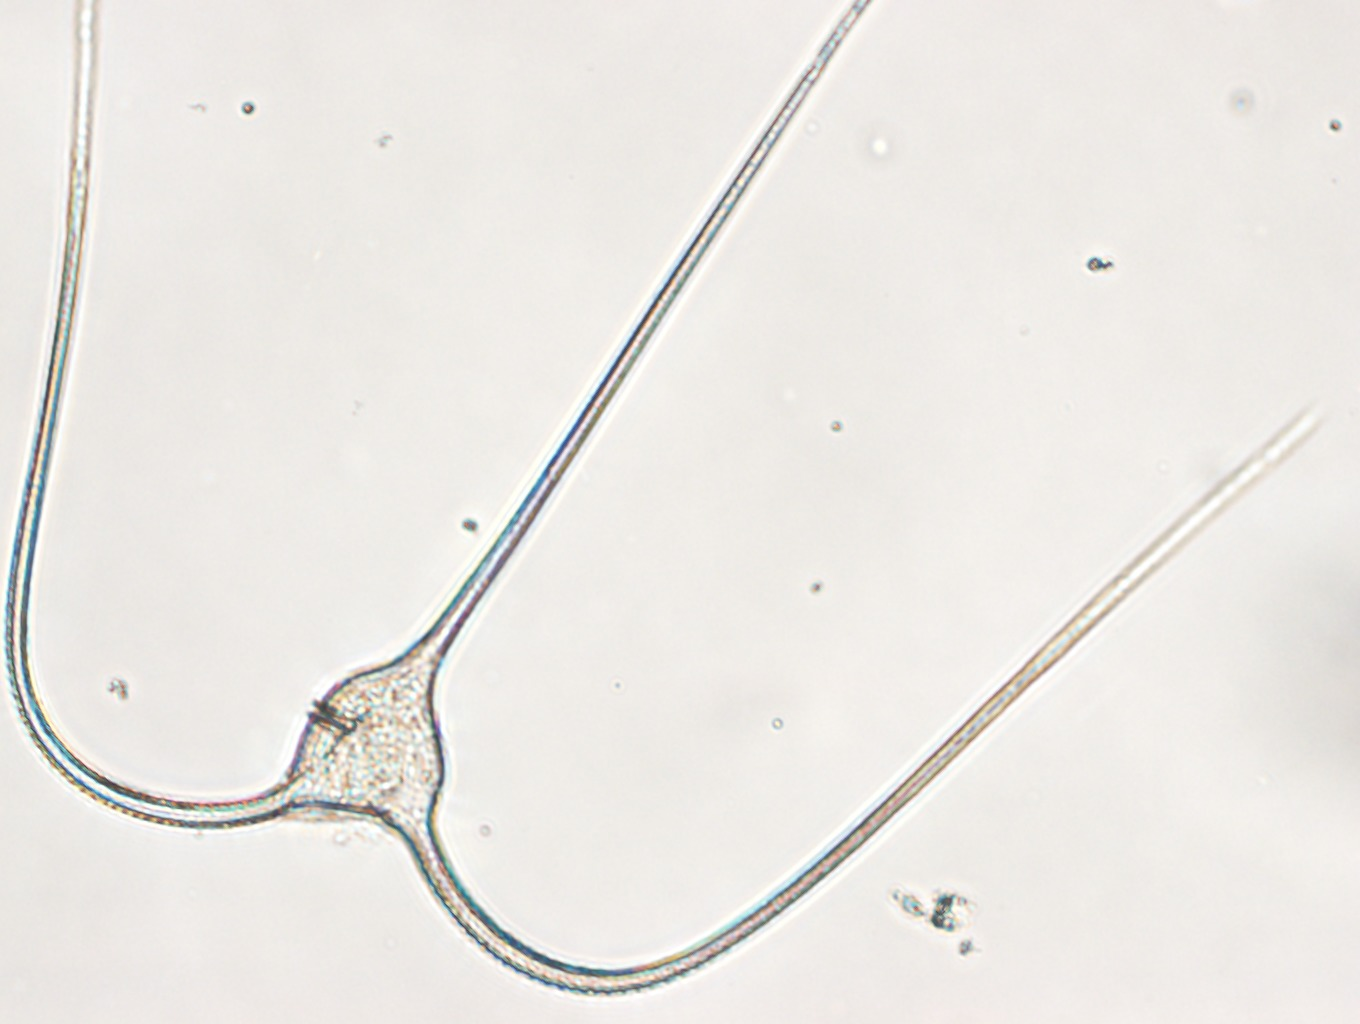ceratium trichoceros: (4, 1, 1321, 997)
